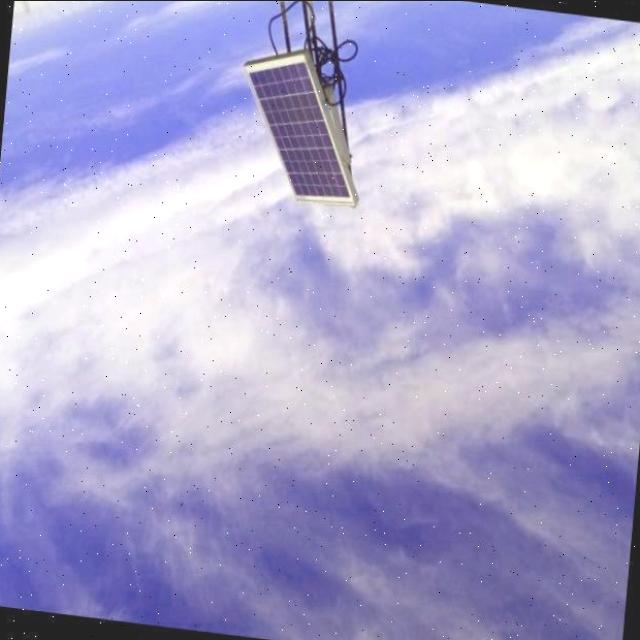Normal Solar Panel: (233, 48, 369, 210)
